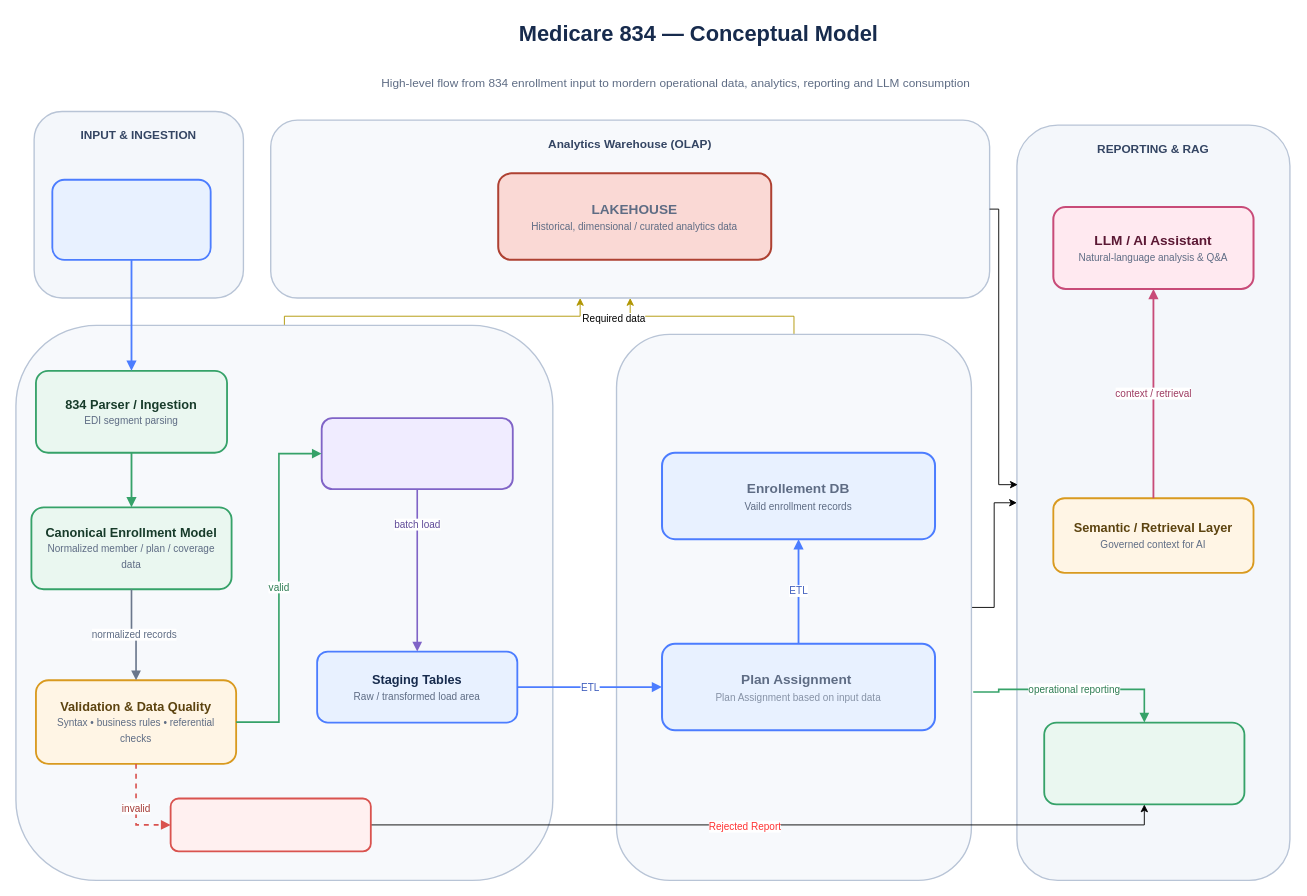
The diagram is 1307 pixels wide and 896 high, and some of its shapes have lost their labels. Each missing label, with the box of its shape:
CSV / Batch Dataset Interchange format when required: (320, 417, 513, 490)
INPUT BATCH PROCESSING: (15, 324, 553, 881)
OPERATIONAL DB (OLTP): (615, 333, 972, 881)
Rejected Records Invalid records for remediation: (169, 797, 371, 852)
Reporting / BI Operational & analytical reports: (1043, 721, 1245, 805)
X12 834 File Benefit Enrollment & Maintenance: (51, 178, 211, 260)
